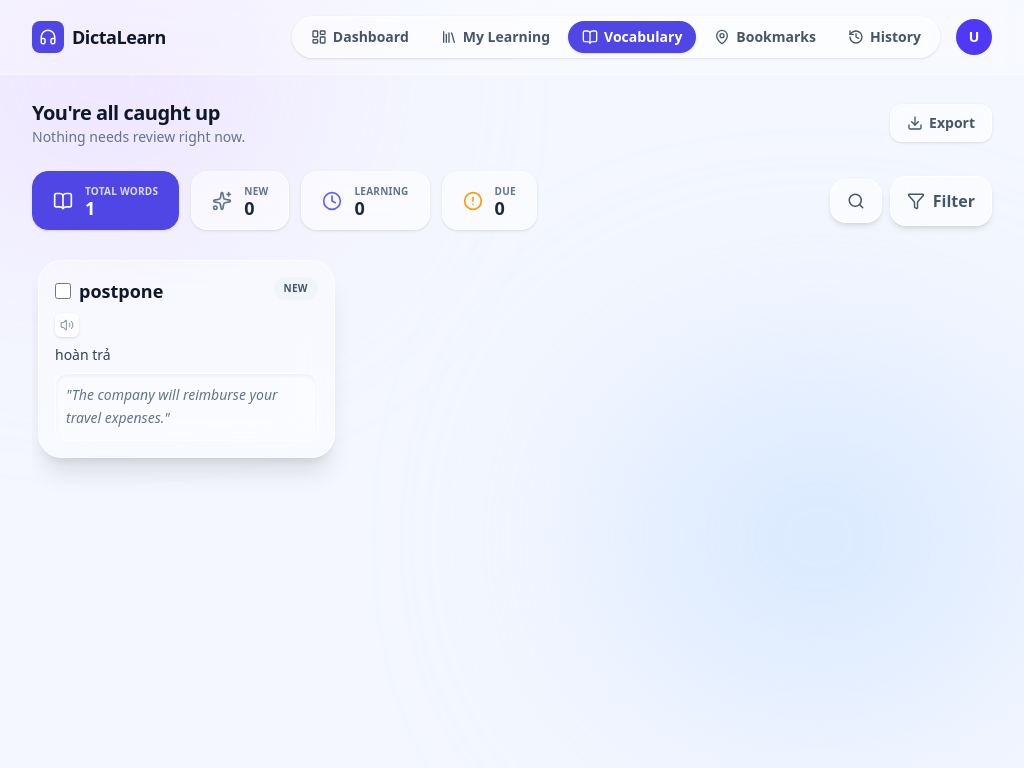
it: VocabularyPage › shows filtered-empty copy (not the true-empty copy) when a search matches nothing
Check: the number of elements with test id "vocab-card" is 1, box [38,260,335,458]
Click the button named "Search" at (856, 200), box [830,178,882,222]
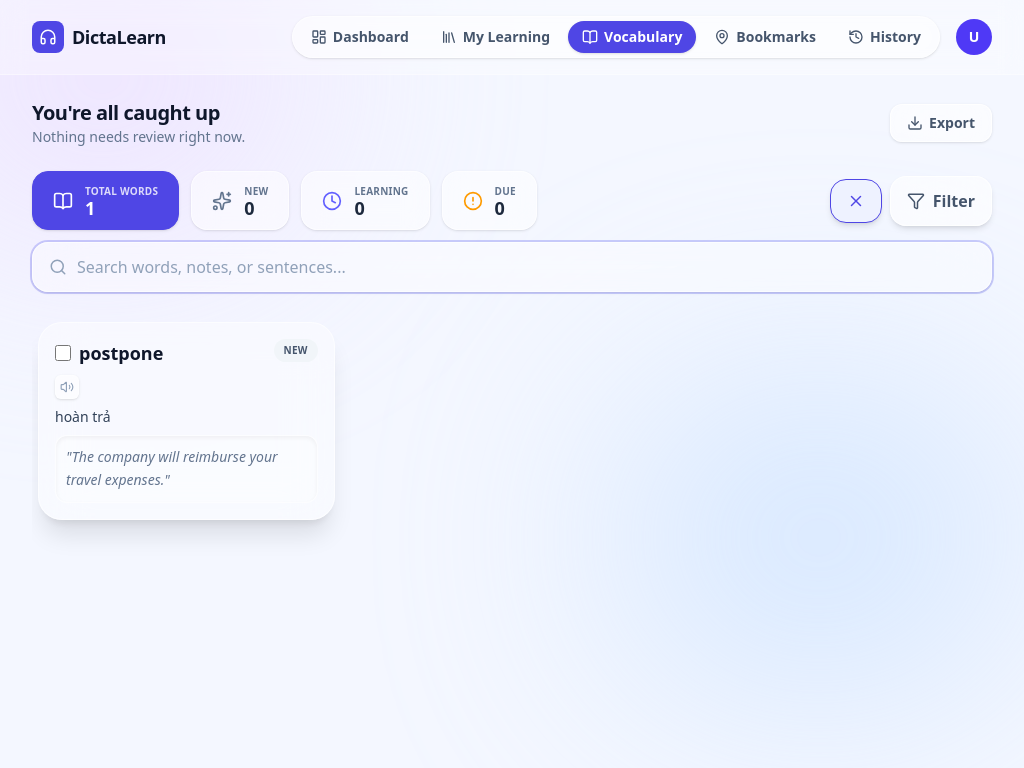
Type "zzz-no-match" into the field with placeholder "Search words, notes, or sentences..." at (512, 267), box [33,243,991,291]
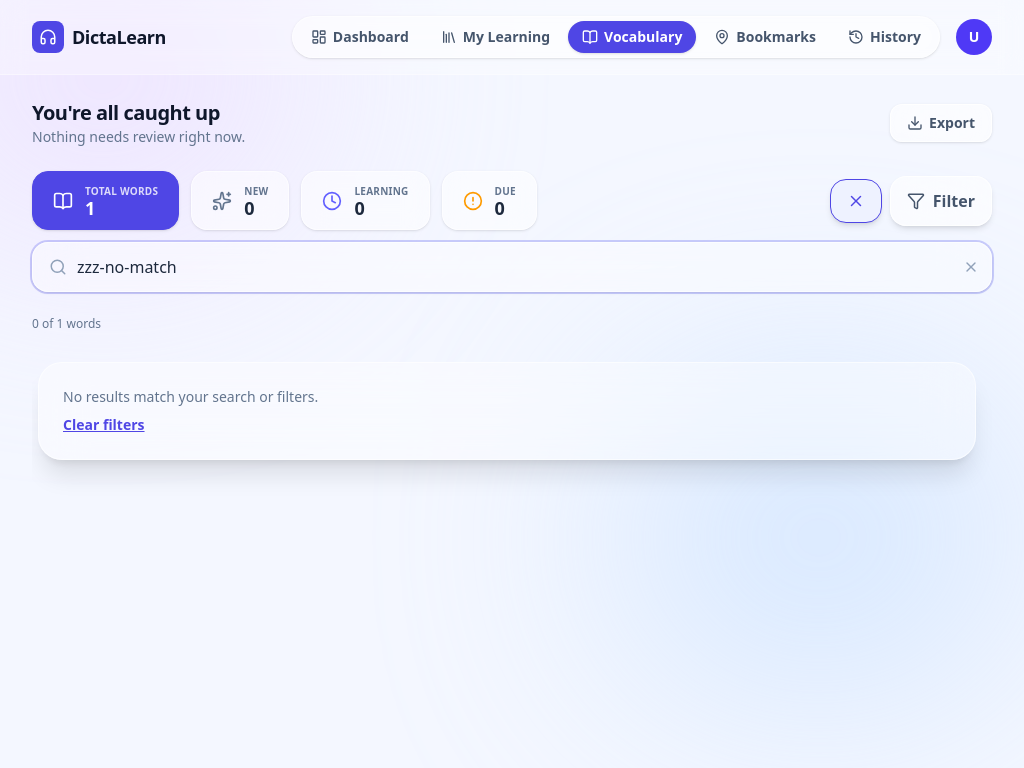
Check: the text "No results match your search or filters." is shown, box [63,387,318,406]
